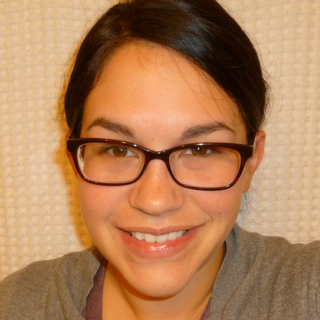eye: (169, 134, 222, 167), (95, 138, 142, 169)
